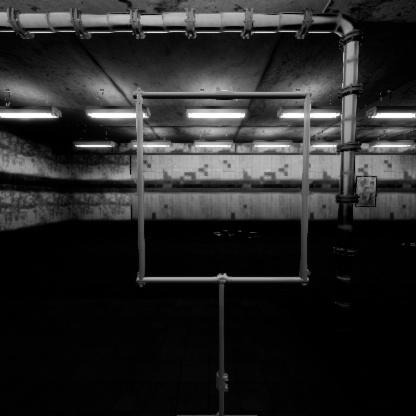gate: (136, 131, 327, 324)
